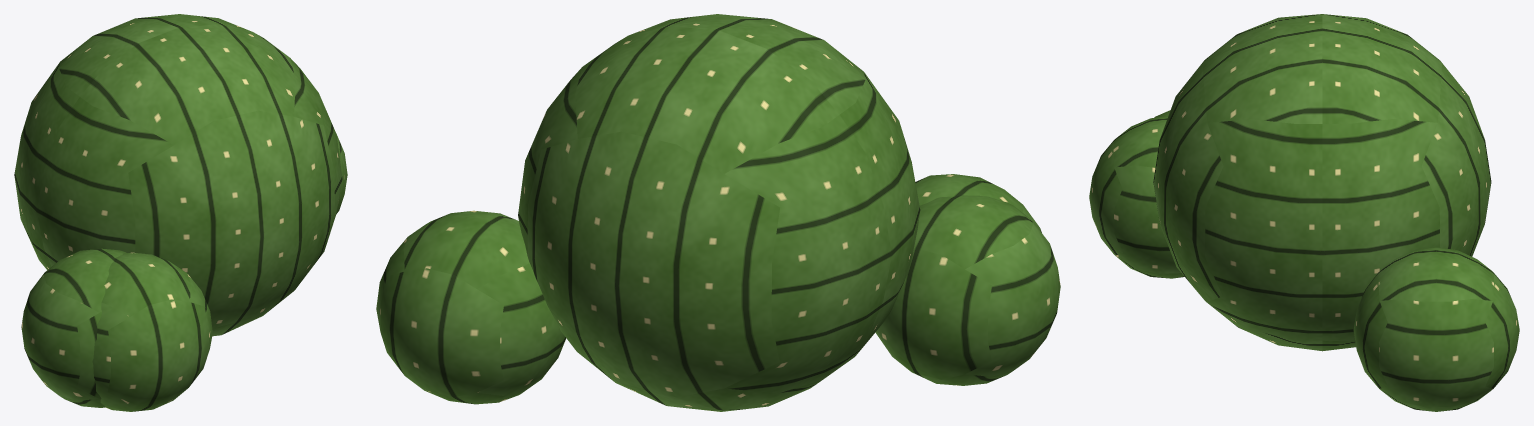
Rendered from Biznaga.obj.
3 views of the same model, side by side, from view 1: azimuth 30°, elevation 25°; view 2: azimuth 150°, elevation 25°; view 3: azimuth 270°, elevation 25° (orthographic). The views are drawn at different scales.
Parts seen in each view (by area): view 1: Biznaga; view 2: Biznaga; view 3: Biznaga.
Part boxes in pixels (x1=…): Biznaga: x1=14, y1=14, x2=347, y2=411; Biznaga: x1=376, y1=14, x2=1060, y2=411; Biznaga: x1=1089, y1=14, x2=1519, y2=411.
Bounding box in the file's own units: 1.33 × 0.9012 × 1.14.
Materials: 1 (1 with a texture image).
